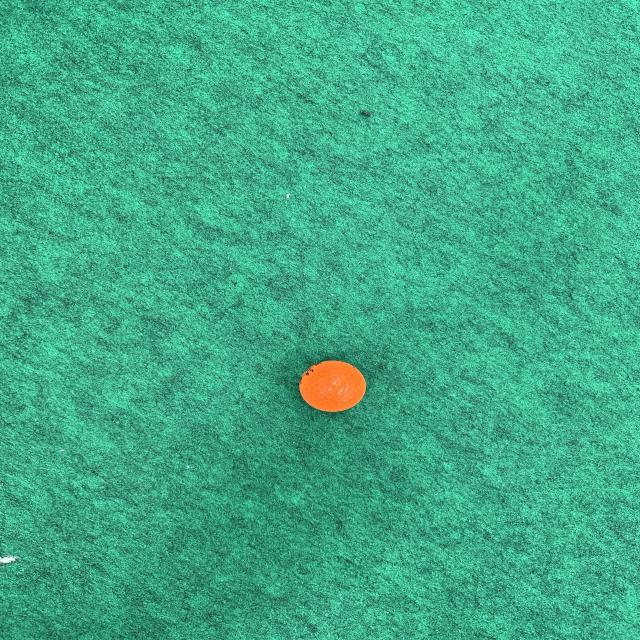ball: (296, 358, 369, 414)
